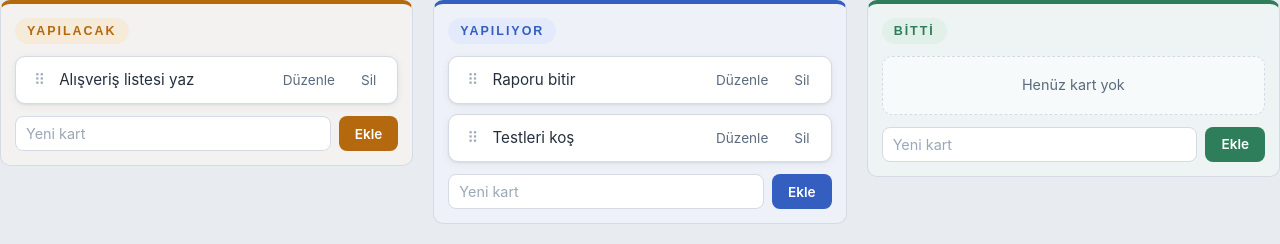
Test case: düzenleme yalnızca ilgili kartı değiştirir
Click the button "Düzenle" next to "Testleri koş".
click(742, 138)  # box [707,125,777,151]
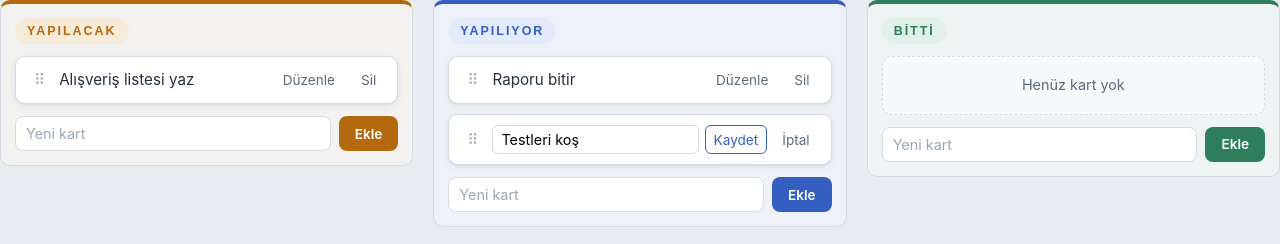
Replace the text in the field named "Kart başlığını düzenle" with "Testleri tekrar koş" at [596, 140], box [492,125,699,154]
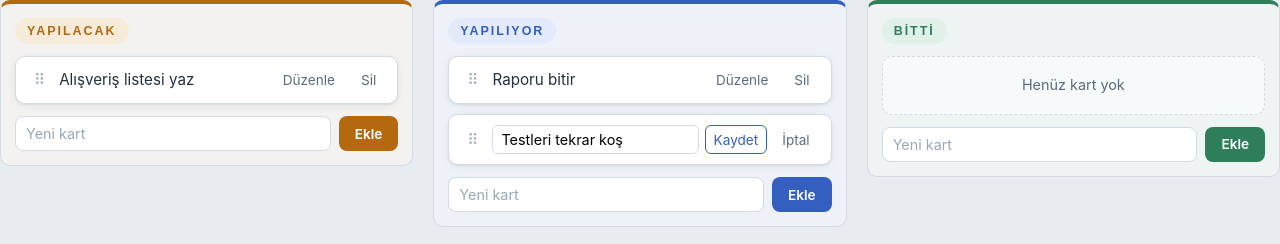
Click the button "Kaydet".
click(736, 140)  # box [705,125,767,154]
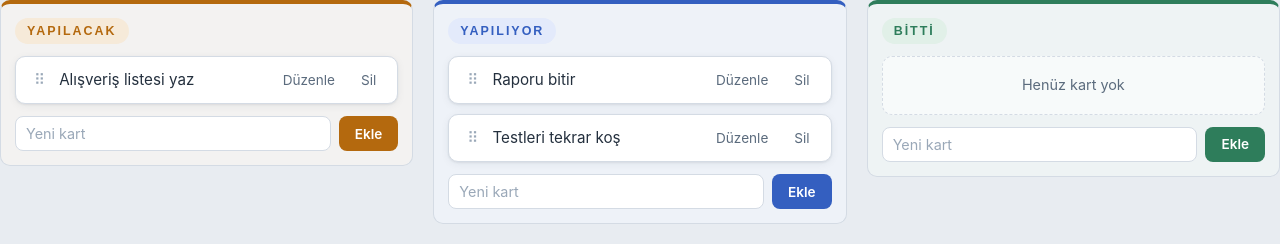
expect the text "Raporu bitir" is shown: met, box [492,70,576,89]
expect the text "Testleri tekrar koş" is shown: met, box [492,128,621,147]
